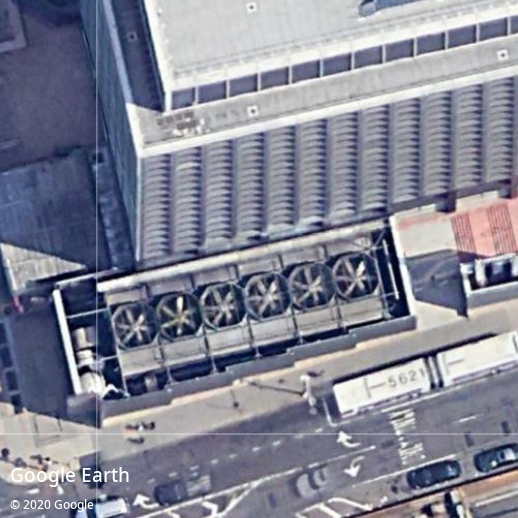Vent: (111, 302, 161, 351), (200, 281, 249, 331), (287, 262, 336, 312), (244, 272, 292, 322), (332, 252, 380, 302), (156, 291, 203, 342)
